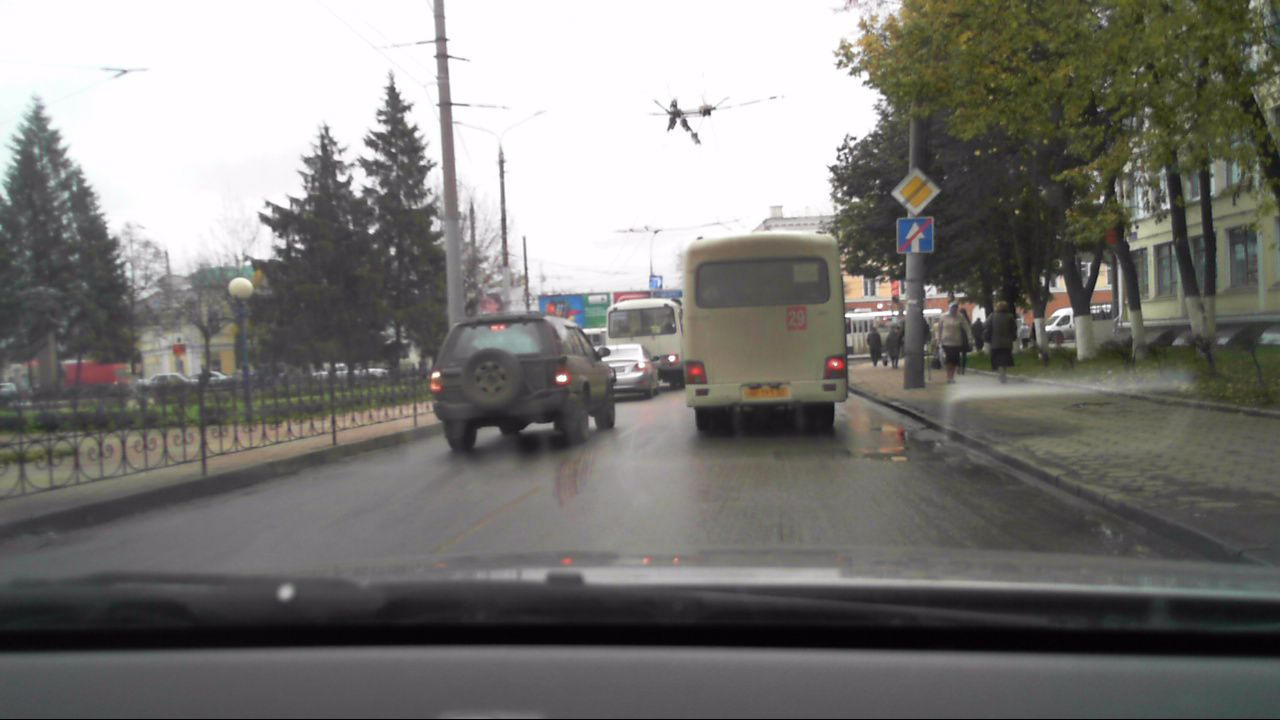main road: (888, 167, 938, 213)
